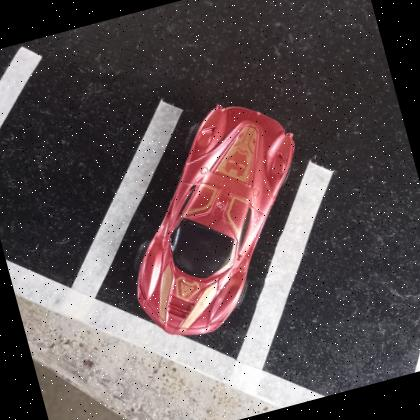Car: (96, 89, 338, 350)
